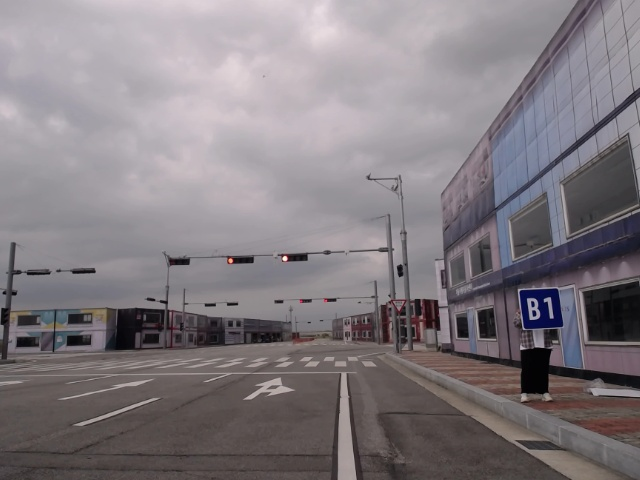delivery_b1: (518, 288, 564, 330)
red_4: (281, 253, 308, 261), (227, 256, 254, 263), (324, 298, 337, 302), (300, 299, 312, 303)
